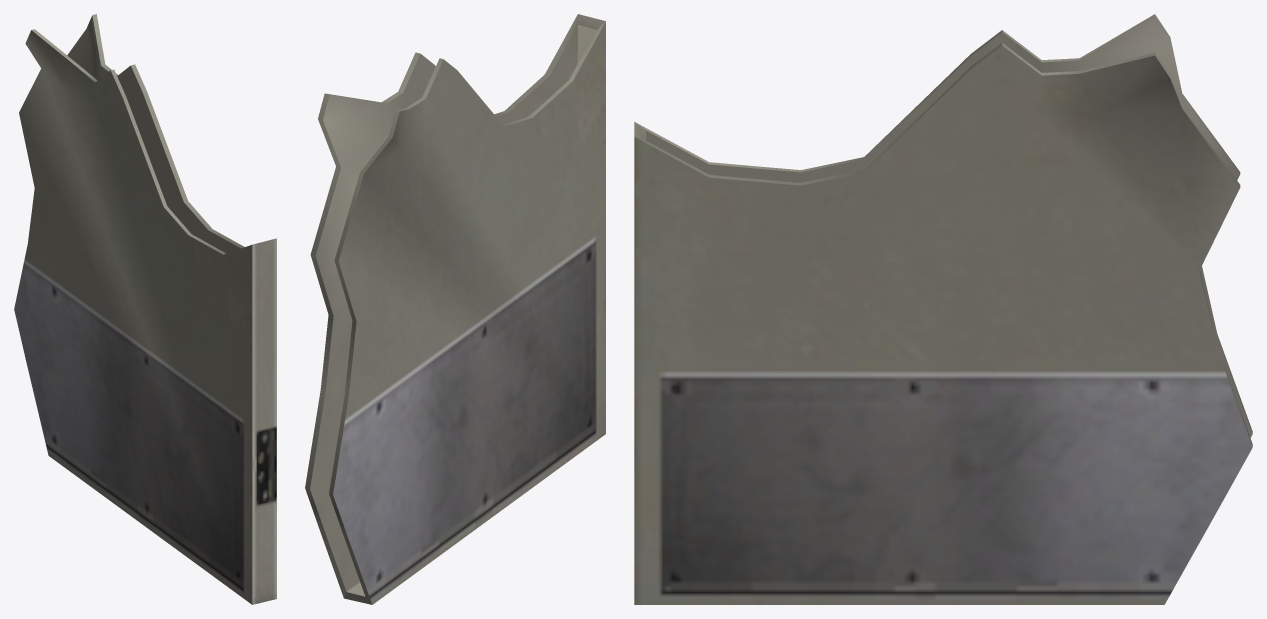
Rendered from doormainmetalwindow01_dm08_a.glb.
The picture shows the model from 3 angles, left to right: view 1: azimuth 30°, elevation 25°; view 2: azimuth 150°, elevation 25°; view 3: azimuth 270°, elevation 25°; orthographic projection. The views are drawn at different scales.
Parts seen in each view (by area): view 1: doormainmetalwindow01_dm08_a; view 2: doormainmetalwindow01_dm08_a; view 3: doormainmetalwindow01_dm08_a.
Boxes of the visible parts, x1,y1,x2,y2 form: doormainmetalwindow01_dm08_a: (14,14,276,604); doormainmetalwindow01_dm08_a: (305,14,605,604); doormainmetalwindow01_dm08_a: (634,14,1252,604).
Size of the model in its own units: 0.1022 by 0.6462 by 0.6441.
1 material, 1 textured.
